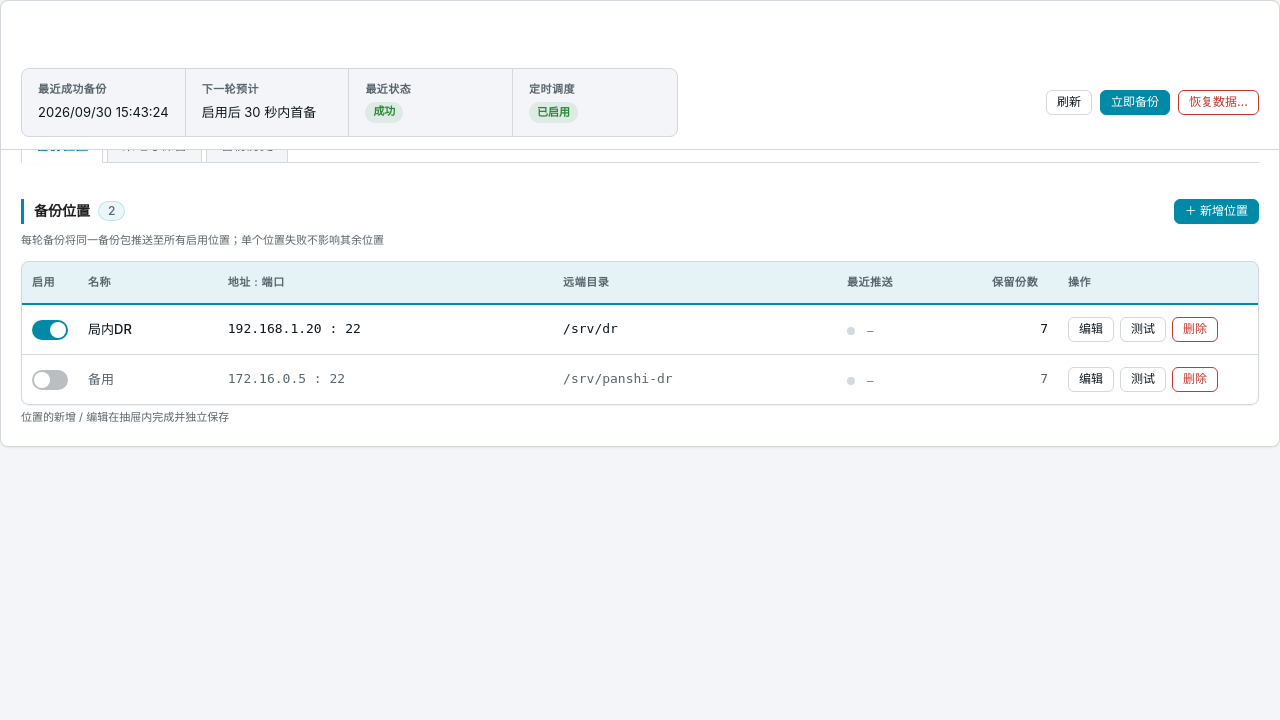
Scenario: L8 抽屉新增位置流程 › L3: 测试连接提示仅校验连通与凭据（不含目录可写/磁盘空间）
Click the button "＋ 新增位置" at (1216, 211), box [1174,199,1259,224]
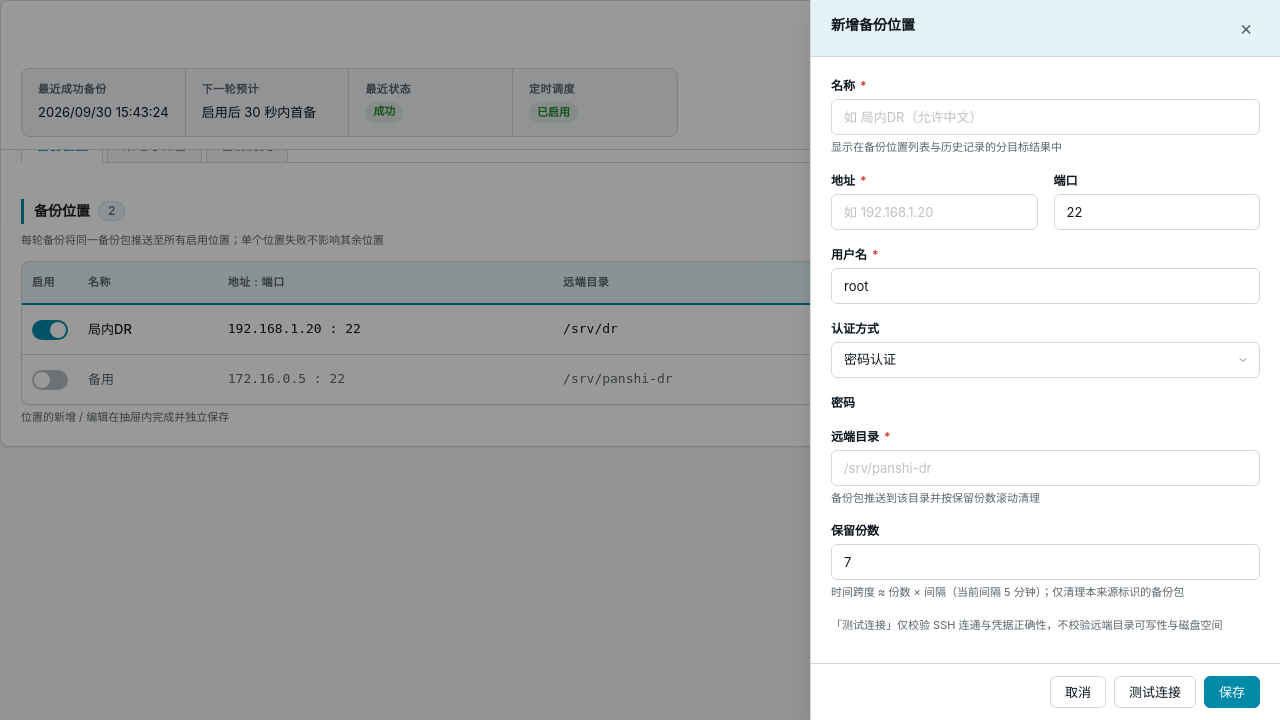
Now the element with class "dbb-drawer" shows "不校验远端目录可写性与磁盘空间", box [831,618,1222,632]
